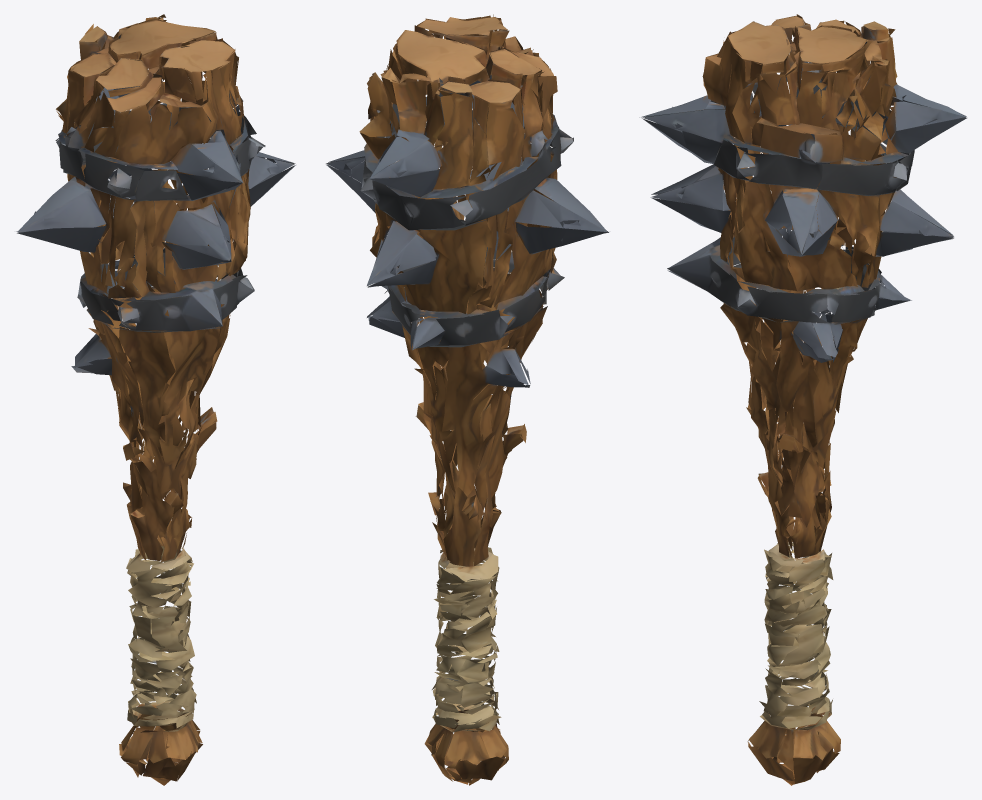
File: w_club.glb
3 renders of one model, left to right at view 1: azimuth 30°, elevation 25°; view 2: azimuth 150°, elevation 25°; view 3: azimuth 270°, elevation 25°, orthographic. The views are drawn at different scales.
Visible parts, largest first — view 1: Body; view 2: Body; view 3: Body.
Part boxes in pixels (x1,y1,x2,y2): Body: [16, 14, 295, 785]; Body: [326, 14, 608, 785]; Body: [639, 14, 966, 785].
Bounding box in the file's own units: 0.7422 × 1.86 × 0.7321.
Materials: 1 (1 with a texture image).
